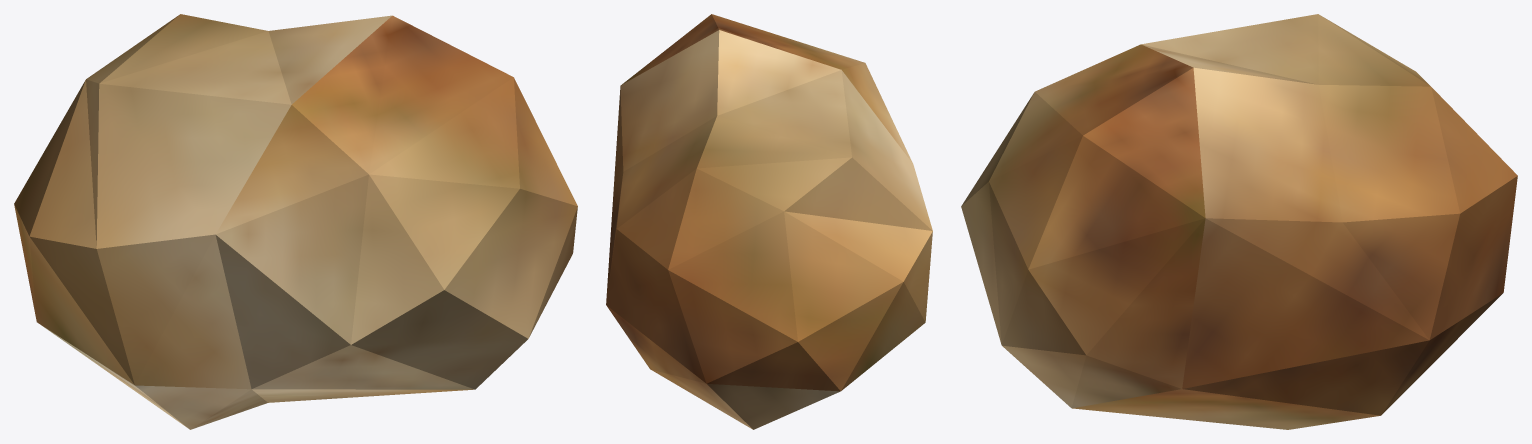
The model's file is soup-potato.glb.
The picture shows the model from 3 angles, left to right: view 1: azimuth 30°, elevation 25°; view 2: azimuth 150°, elevation 25°; view 3: azimuth 270°, elevation 25°; orthographic projection. The views are drawn at different scales.
Visible parts, largest first — view 1: soup-potato; view 2: soup-potato; view 3: soup-potato.
Part boxes in pixels (x1,y1,x2,y2): soup-potato: (14,14,577,429); soup-potato: (606,14,932,429); soup-potato: (961,14,1517,429).
Bounding box in the file's own units: 0.1884 × 0.1714 × 0.2166.
Materials: 1 (1 with a texture image).
